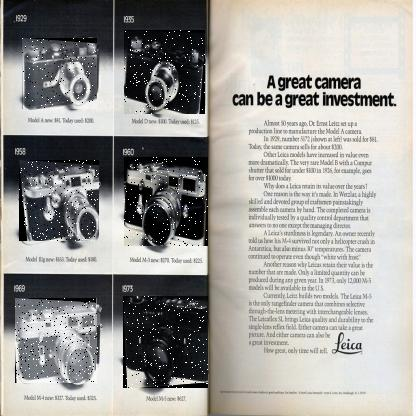Camera: (124, 297, 210, 390), (125, 158, 210, 248), (17, 300, 101, 386), (125, 31, 207, 116), (20, 162, 101, 244), (23, 39, 99, 111)
